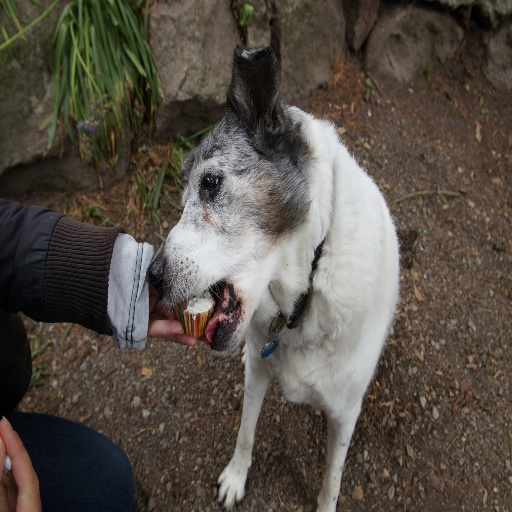hand: (147, 285, 212, 346), (0, 419, 37, 499)
